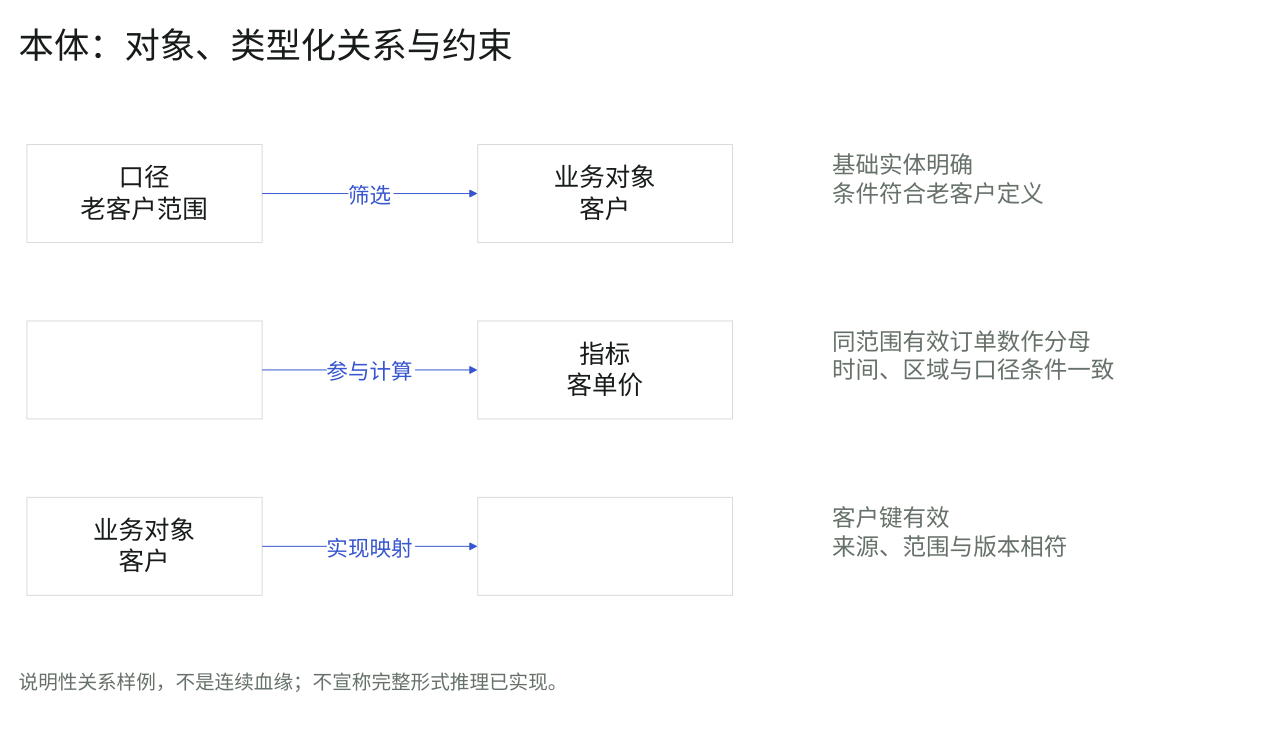
Some shapes in this 1268 by 729 pixel diagram are drawn without their labels. The centre of each missing label's shape, as x and y in pixels:
基础指标 实付总金额: the point at 144,369
数据资产 统一客户档案: the point at 605,545
